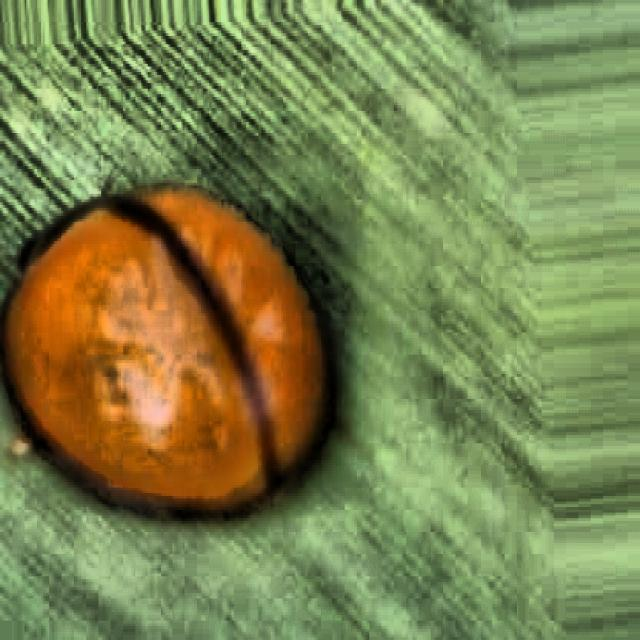Ladybug: (0, 109, 402, 593)
